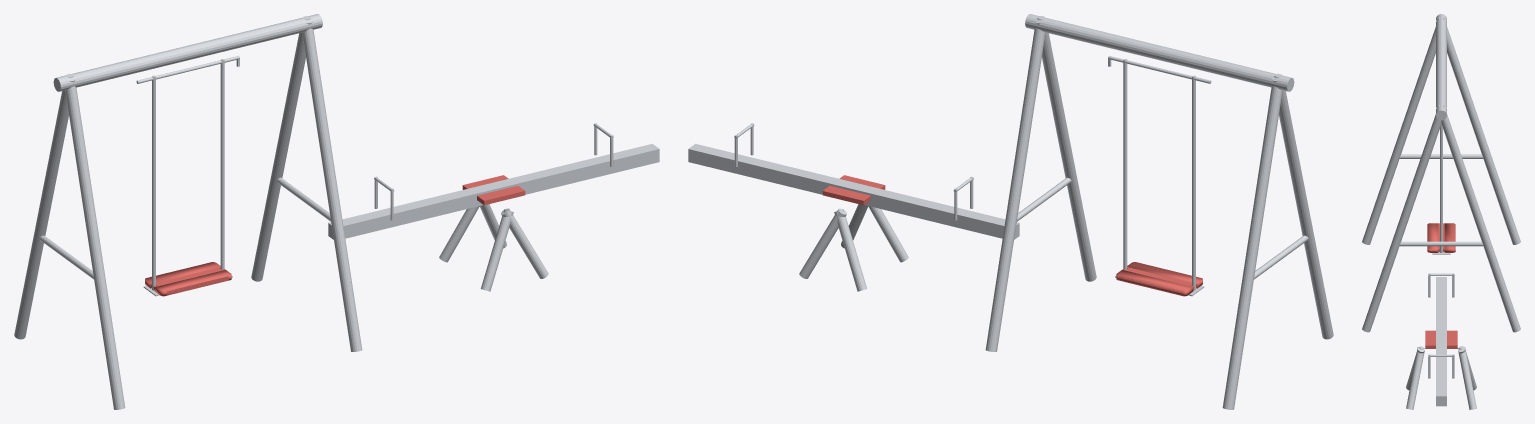
Rendered from playground_swing_seesaw.glb.
The picture shows the model from 3 angles, left to right: view 1: azimuth 30°, elevation 25°; view 2: azimuth 150°, elevation 25°; view 3: azimuth 270°, elevation 25°; orthographic projection. The views are drawn at different scales.
Parts seen in each view (by area): view 1: Cube.006, Cylinder.006, Cylinder, Cylinder.003, Cylinder.001, Cylinder.004, SwingCarrier, Cylinder.013, Cylinder.007, Cylinder.012, Cube.007, Cylinder.008 (+1 smaller); view 2: Cube.006, Cylinder.006, Cylinder.001, Cylinder.004, Cylinder, Cylinder.003, SwingCarrier, Cylinder.013, Cylinder.009, Cylinder.012, Cube.007, Cylinder.010 (+1 smaller); view 3: Cylinder.003, Cylinder.004, Cylinder, Cylinder.001, Cube.006, Cylinder.006, SwingCarrier, Cylinder.005, Cylinder.008, Cylinder.010, Cube.007, Cylinder.013 (+3 smaller).
Boxes of the visible parts, <box> form: Cube.006: <box>328,143,659,239</box>; Cylinder.006: <box>53,14,322,91</box>; Cylinder: <box>65,76,125,409</box>; Cylinder.003: <box>302,18,362,351</box>; Cylinder.001: <box>14,73,75,339</box>; Cylinder.004: <box>251,16,312,281</box>; SwingCarrier: <box>145,262,231,296</box>; Cylinder.013: <box>220,59,224,269</box>; Cylinder.007: <box>481,209,513,291</box>; Cylinder.012: <box>152,75,155,290</box>; Cube.007: <box>462,175,525,205</box>; Cylinder.008: <box>501,208,548,278</box>; Cube.006: <box>688,143,1019,239</box>; Cylinder.006: <box>1025,14,1294,91</box>; Cylinder.001: <box>1222,76,1282,409</box>; Cylinder.004: <box>985,18,1045,351</box>; Cylinder: <box>1272,73,1333,339</box>; Cylinder.003: <box>1035,16,1096,281</box>; SwingCarrier: <box>1116,262,1202,296</box>; Cylinder.013: <box>1123,59,1127,269</box>; Cylinder.009: <box>834,209,866,291</box>; Cylinder.012: <box>1192,75,1195,290</box>; Cube.007: <box>822,175,885,205</box>; Cylinder.010: <box>799,208,846,278</box>; Cylinder.003: <box>1362,105,1446,332</box>; Cylinder.004: <box>1436,105,1520,332</box>; Cylinder: <box>1362,17,1446,244</box>; Cylinder.001: <box>1436,17,1520,244</box>; Cube.006: <box>1436,277,1446,406</box>; Cylinder.006: <box>1436,14,1446,120</box>; SwingCarrier: <box>1427,223,1455,252</box>; Cylinder.005: <box>1399,241,1483,246</box>; Cylinder.008: <box>1406,347,1425,409</box>; Cylinder.010: <box>1457,347,1476,409</box>; Cube.007: <box>1425,330,1457,348</box>; Cylinder.013: <box>1440,124,1442,252</box>.
Bounding box in the file's own units: 4.8 × 2.29 × 1.46.
